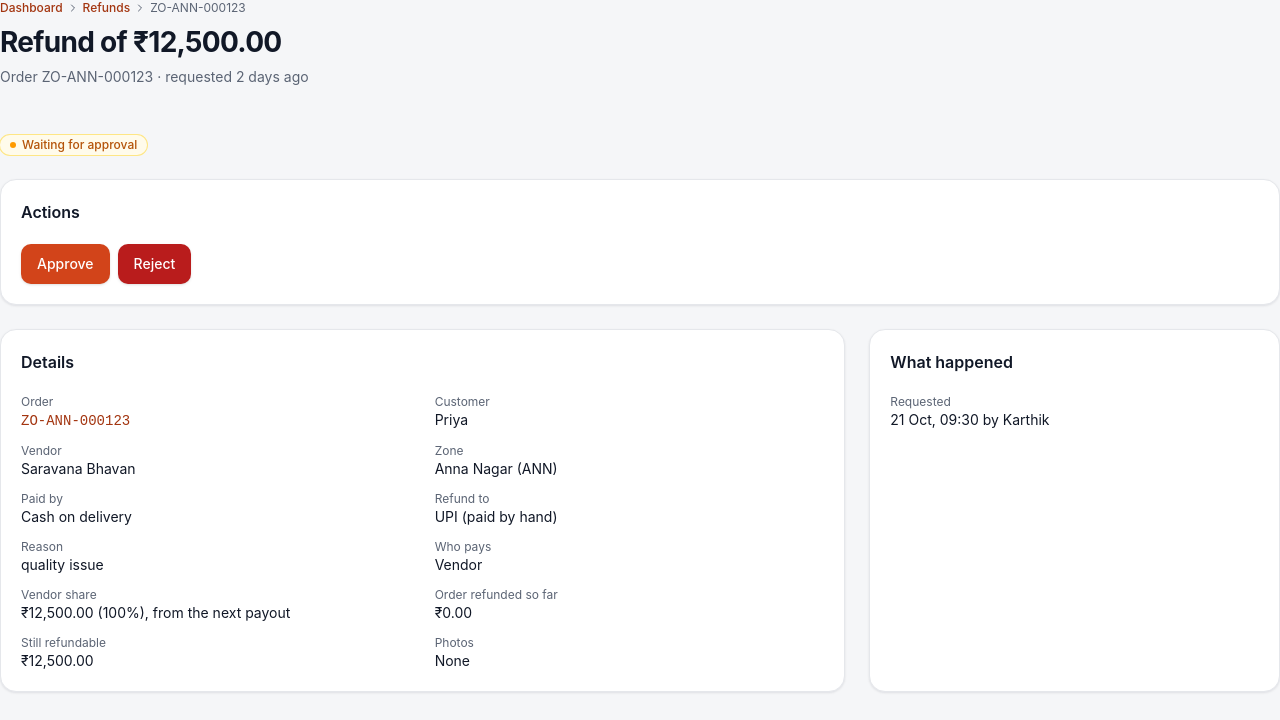
Test: Refund page › a Super Admin approves another member’s refund; the API’s refusal reads plainly
Check: the button "Reject" is shown, box [118,244,191,284]
Click the button "Approve".
click(65, 264)  # box [21,244,110,284]
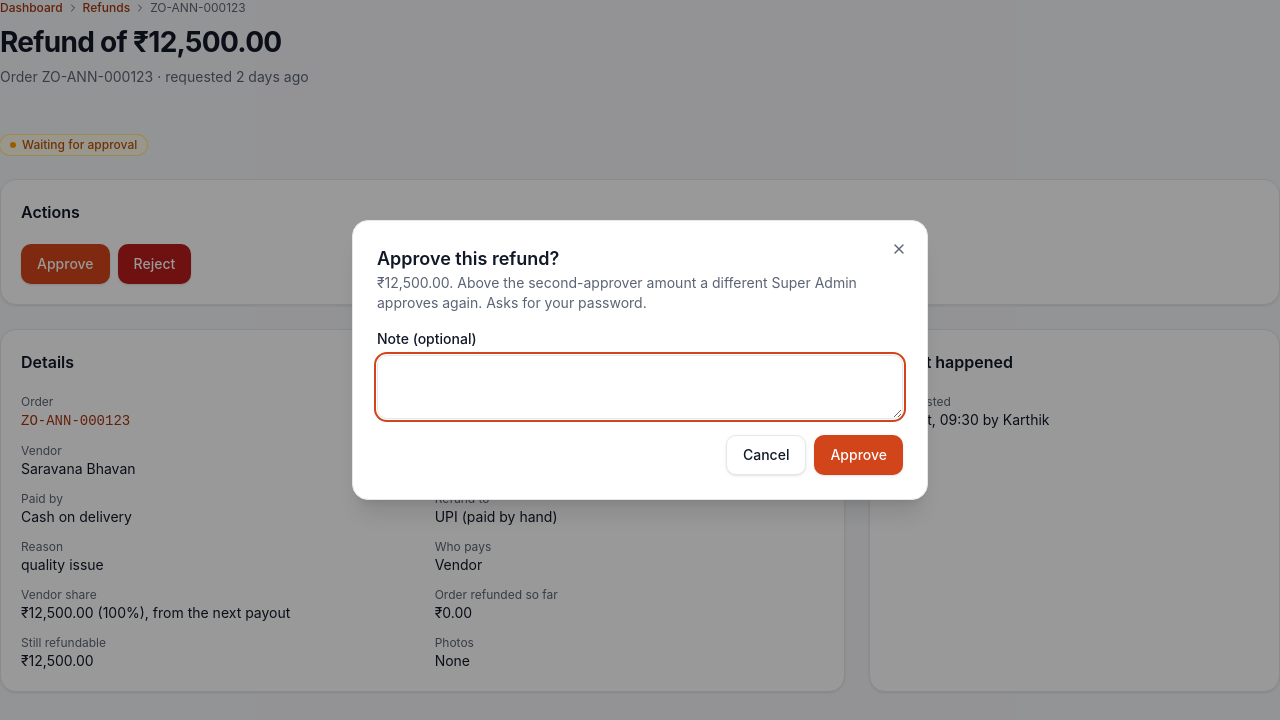
Check: the dialog shows "Asks for your password", box [377,274,857,311]
Click the button "Approve".
click(859, 455)  # box [814,435,903,475]
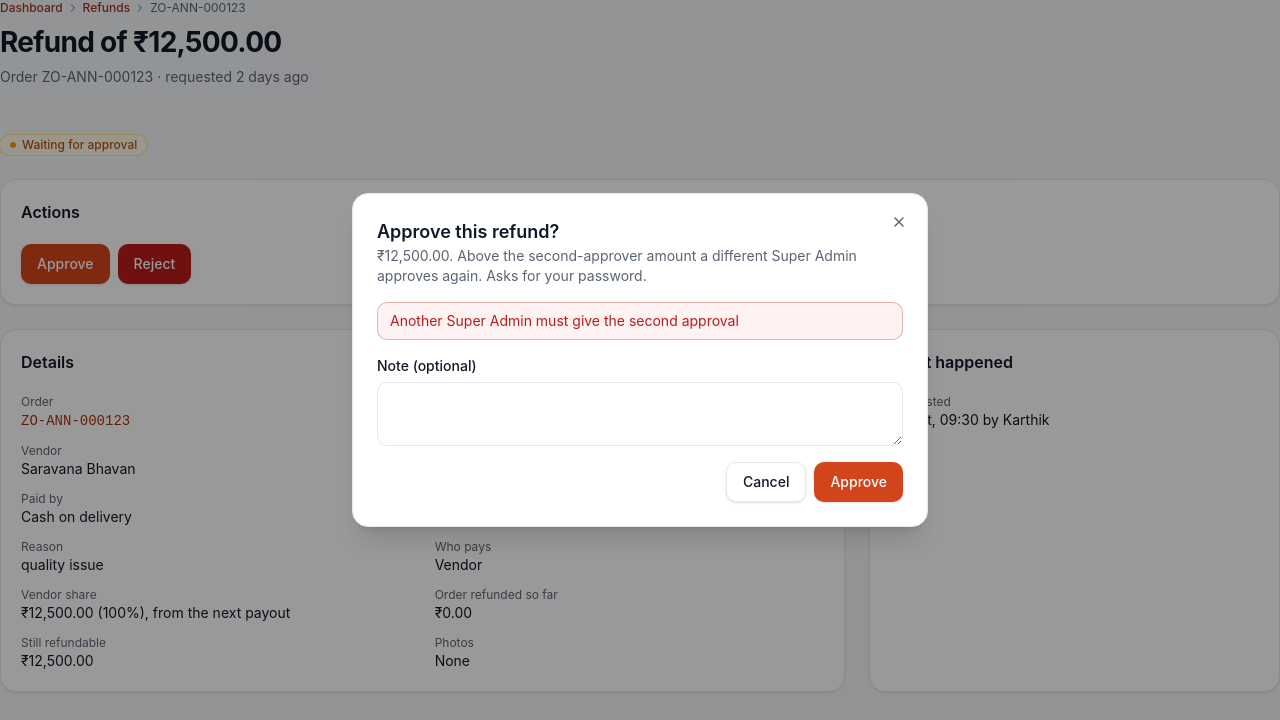
Check: the text "Another Super Admin must give the second approval" is shown, box [377,302,903,340]
